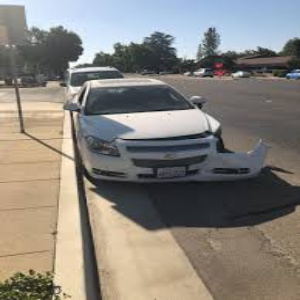bumper: (199, 133, 268, 181)
